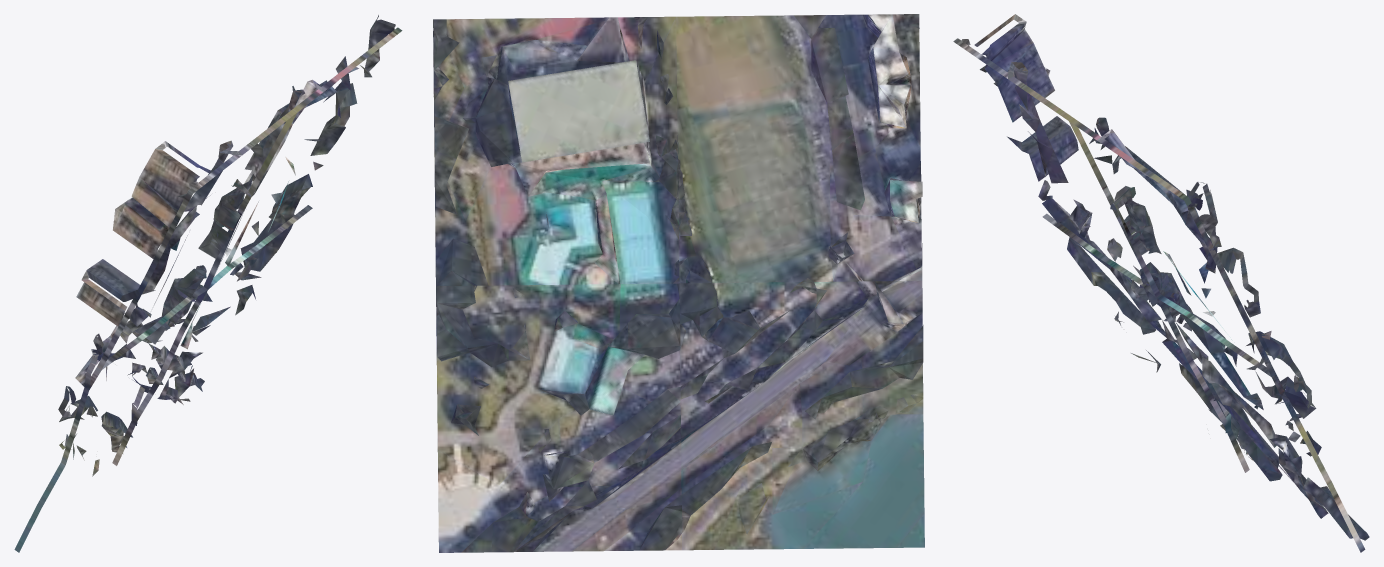
The picture shows the model from 3 angles, left to right: view 1: azimuth 30°, elevation 25°; view 2: azimuth 150°, elevation 25°; view 3: azimuth 270°, elevation 25°; orthographic projection. The views are drawn at different scales.
Size of the model in its own units: 303 by 295 by 261.
Materials: 2 (2 with a texture image).
